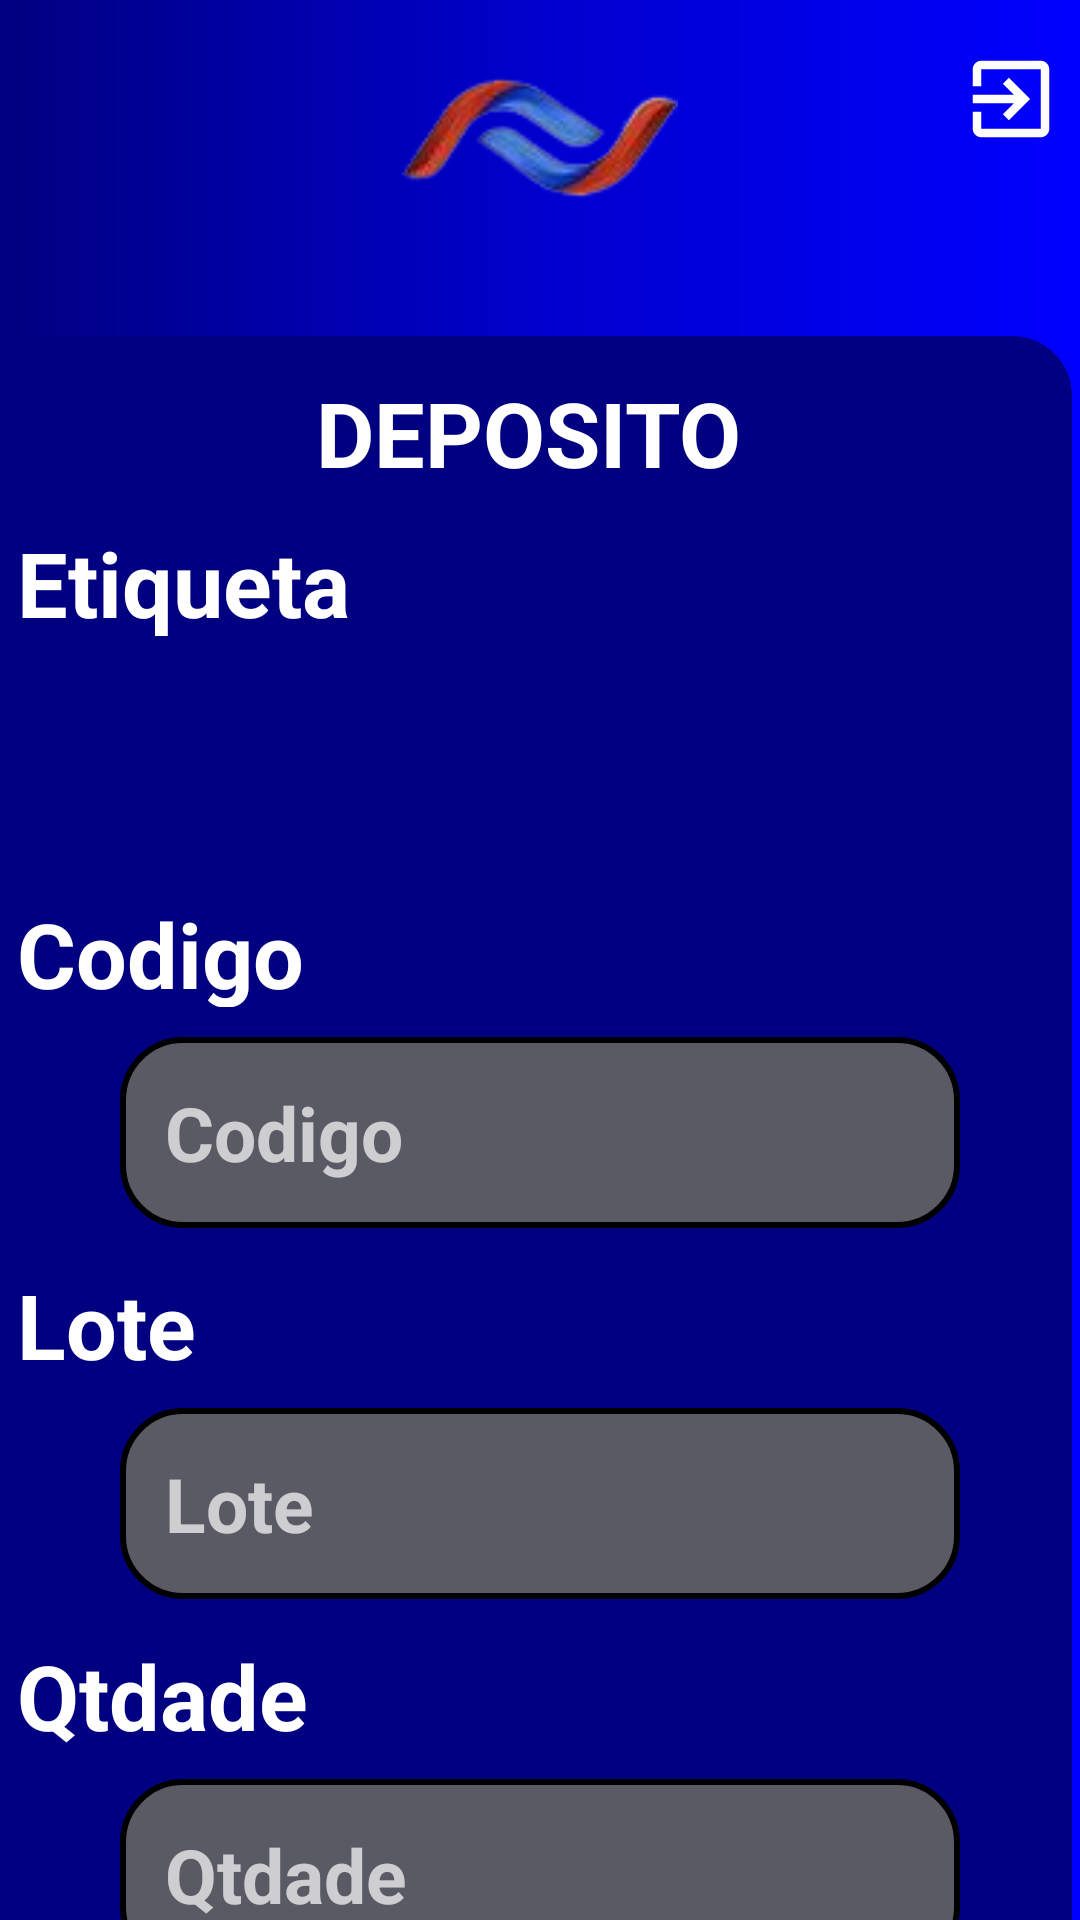

Locate icon controls on the screen. Image size 1080*1920, boxes as box(x1, y1, x2, y2).
exit: box(972, 60, 1050, 138)
